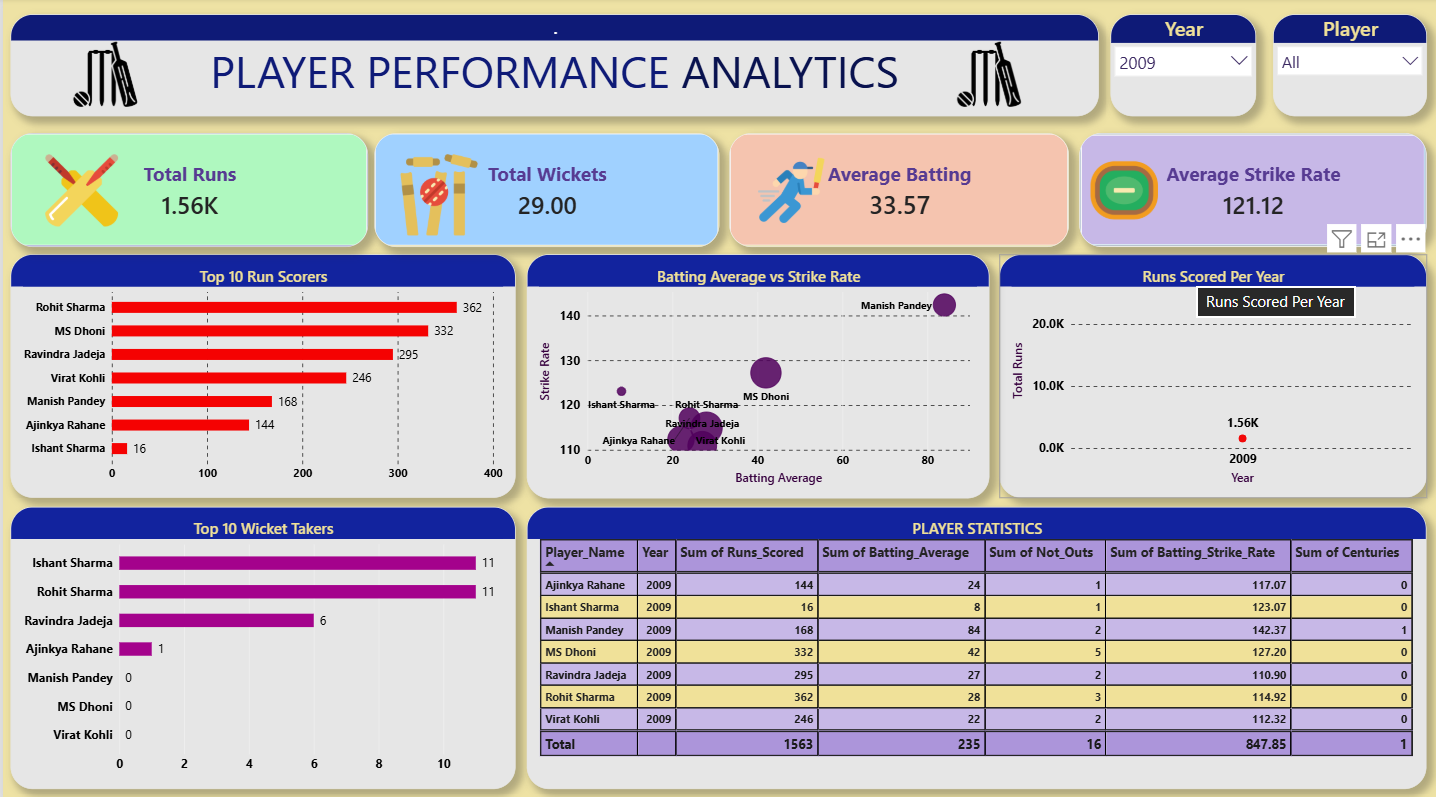

This screenshot's page, from the dashboard's own definition file:
{"tool":"powerbi","page":{"name":"Page 1","canvas":[1920,1080],"ordinal":0},"visuals":[{"type":"textbox","title":".","box":[10.7,21.3,1458.5,136.8],"z":0},{"type":"clusteredBarChart","title":"Top 10 Run Scorers","fields":{"Category":["cricket_data_2026.Player_Name"],"Y":["cricket_data_2026.Total Runs"]},"box":[10,343.4,676.7,326.6],"z":1},{"type":"cardVisual","fields":{"Data":["cricket_data_2026.Total Runs"]},"box":[10,180.9,479,152.4],"z":2},{"type":"cardVisual","fields":{"Data":["cricket_data_2026.Total Wickets"]},"box":[497.5,180.9,462.3,152.4],"z":3},{"type":"cardVisual","fields":{"Data":["cricket_data_2026.Average Batting"]},"box":[973.1,180.9,455.6,152.4],"z":4},{"type":"cardVisual","fields":{"Data":["cricket_data_2026.Average Strike Rate"]},"box":[1442.1,180.9,465.6,152.4],"z":5},{"type":"lineChart","title":"Runs Scored Per Year","fields":{"Category":["cricket_data_2026.Year"],"Y":["cricket_data_2026.Total Runs"]},"box":[1334.9,343.4,572.8,326.6],"z":6},{"type":"clusteredBarChart","title":"Top 10 Wicket Takers","fields":{"Category":["cricket_data_2026.Player_Name"],"Y":["cricket_data_2026.Total Wickets"]},"box":[10,681.7,676.7,378.5],"z":7},{"type":"scatterChart","title":"Batting Average vs Strike Rate","fields":{"Category":["cricket_data_2026.Player_Name"],"Size":["Sum(cricket_data_2026.Runs_Scored)"],"X":["cricket_data_2026.Average Batting"],"Y":["cricket_data_2026.Average Strike Rate"]},"box":[701.7,342.9,620,326.9],"z":8},{"type":"tableEx","title":"PLAYER STATISTICS","fields":{"Values":["cricket_data_2026.Player_Name","cricket_data_2026.Year","Sum(cricket_data_2026.Runs_Scored)","Sum(cricket_data_2026.Batting_Average)","Sum(cricket_data_2026.Not_Outs)","Sum(cricket_data_2026.Batting_Strike_Rate)","Sum(cricket_data_2026.Centuries)"]},"box":[701.8,681.7,1206,378.5],"z":9},{"type":"slicer","title":"Year","fields":{"Values":["cricket_data_2026.Year"]},"box":[1483.3,21.3,195.4,136.8],"z":10},{"type":"slicer","title":"Player","fields":{"Values":["cricket_data_2026.Player_Name"]},"box":[1701.9,21.3,206.1,136.8],"z":11},{"type":"image","box":[31.8,209.4,147.4,97.1],"z":12},{"type":"image","box":[525.9,209.4,117.2,108.9],"z":13},{"type":"image","box":[1011.7,209.4,90.4,97.1],"z":14},{"type":"image","box":[1457.2,209.4,90.4,97.1],"z":15},{"type":"image","box":[70.3,58.6,134,87.1],"z":16},{"type":"image","box":[1254.5,58.6,134,87.1],"z":17}]}

Visuals, with their boxes in screenshot pixels (x1, y1, x2, y2), scaled from the page's 1920x1080 canvas onto the 1436x797 screenshot:
"." textbox: crop(8, 16, 1099, 117)
"Top 10 Run Scorers" clusteredBarChart: crop(7, 253, 514, 494)
cardVisual - cricket_data_2026.Total Runs: crop(7, 133, 366, 246)
cardVisual - cricket_data_2026.Total Wickets: crop(372, 133, 718, 246)
cardVisual - cricket_data_2026.Average Batting: crop(728, 133, 1069, 246)
cardVisual - cricket_data_2026.Average Strike Rate: crop(1079, 133, 1427, 246)
"Runs Scored Per Year" lineChart: crop(998, 253, 1427, 494)
"Top 10 Wicket Takers" clusteredBarChart: crop(7, 503, 514, 782)
"Batting Average vs Strike Rate" scatterChart: crop(525, 253, 989, 494)
"PLAYER STATISTICS" tableEx: crop(525, 503, 1427, 782)
"Year" slicer: crop(1109, 16, 1256, 117)
"Player" slicer: crop(1273, 16, 1427, 117)
image: crop(24, 155, 134, 226)
image: crop(393, 155, 481, 235)
image: crop(757, 155, 824, 226)
image: crop(1090, 155, 1157, 226)
image: crop(53, 43, 153, 108)
image: crop(938, 43, 1038, 108)
